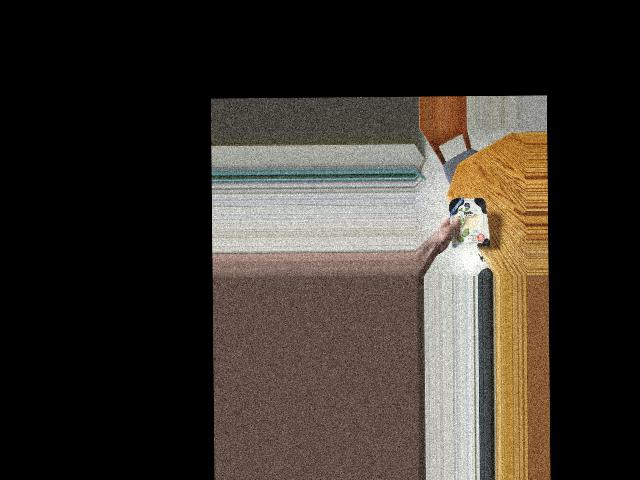cheese: (450, 189, 489, 256)
